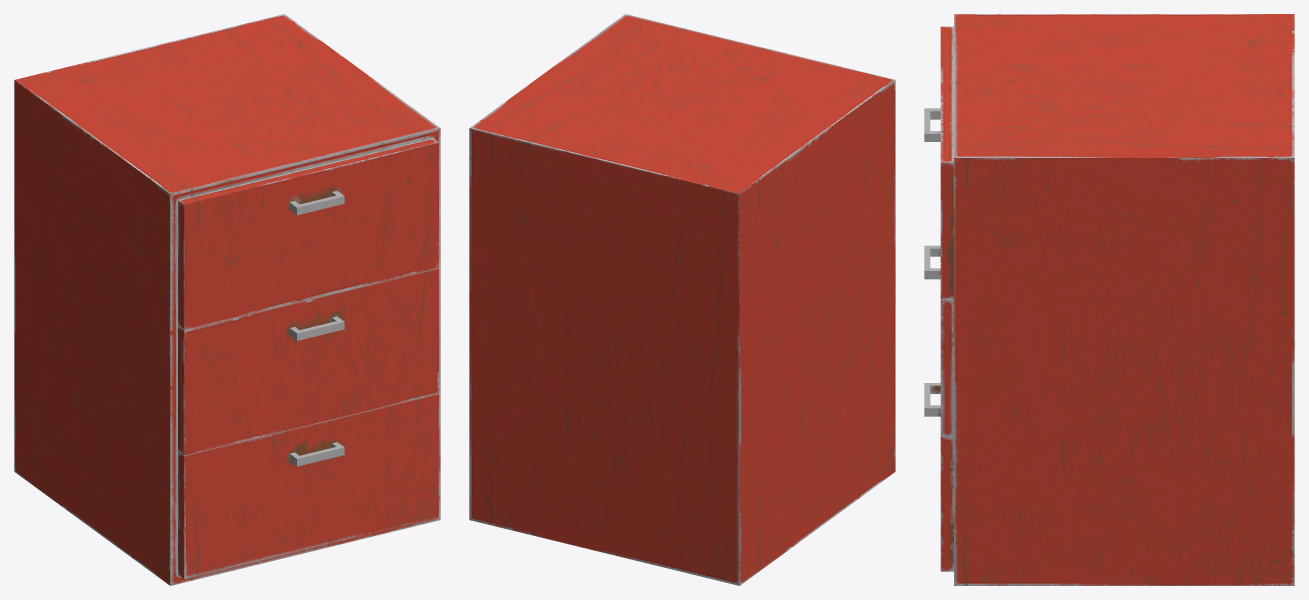
The picture shows the model from 3 angles, left to right: view 1: azimuth 30°, elevation 25°; view 2: azimuth 150°, elevation 25°; view 3: azimuth 270°, elevation 25°; orthographic projection. The views are drawn at different scales.
Visible parts, largest first — view 1: body, upper_drawer, middle_drawer, bottom_drawer; view 2: body; view 3: body, upper_drawer, middle_drawer, bottom_drawer.
Part boxes in pixels (x1,y1,x2,y2): body: (14, 14, 440, 585); upper_drawer: (178, 138, 438, 329); middle_drawer: (178, 268, 438, 455); bottom_drawer: (178, 393, 438, 579); body: (469, 14, 895, 585); body: (954, 14, 1294, 585); upper_drawer: (924, 26, 953, 299); middle_drawer: (924, 245, 953, 436); bottom_drawer: (924, 383, 953, 571).
Size of the model in its own units: 72.39 by 100 by 78.75.
2 materials, 2 textured.
